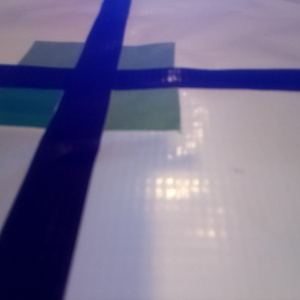bottom_left: (1, 69, 102, 128)
bottom_right: (64, 68, 181, 130)
top_left: (18, 41, 116, 89)
top_right: (85, 42, 175, 86)
